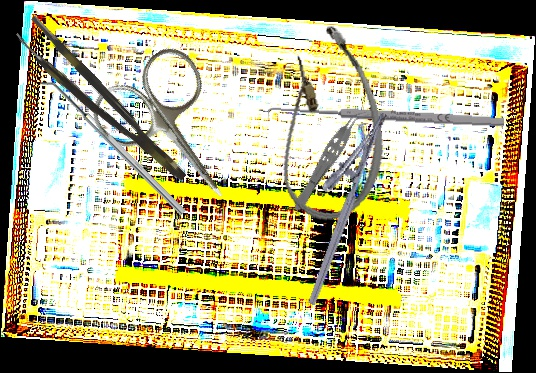Cannula: (259, 20, 395, 227)
Hook Surgical: (267, 101, 505, 138)
Iris Scissors: (82, 38, 268, 232)
Needle Holder: (280, 101, 390, 307)
Spatula Surgical: (38, 73, 187, 222)
Tissue Forceps: (13, 14, 189, 196), (287, 103, 371, 216)
